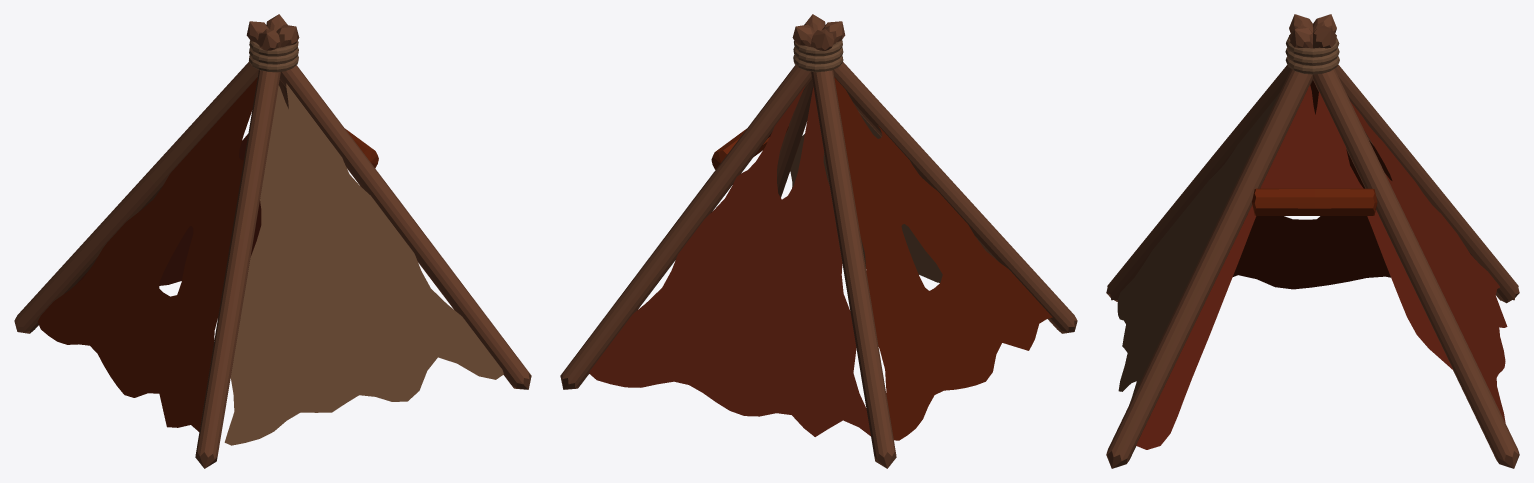
The model's file is tent4.fbx.
3 renders of one model, left to right at view 1: azimuth 30°, elevation 25°; view 2: azimuth 150°, elevation 25°; view 3: azimuth 270°, elevation 25°, orthographic. The views are drawn at different scales.
Parts seen in each view (by area): view 1: Grid, Grid.003, Cylinder.001, Cylinder.004, Cylinder.003, Grid.002, Cylinder.002; view 2: Grid.002, Grid.003, Cylinder.003, Cylinder.002, Cylinder.001, Cylinder.004, Grid; view 3: Grid.001, Cylinder.002, Cylinder.004, Grid, Grid.003, Grid.002, Cylinder.003, Cylinder.001, Cylinder, Torus.001, Torus.002, Torus.003.
Part boxes in pixels (x1,y1,x2,y2): Grid: [224, 83, 503, 445]; Grid.003: [37, 77, 257, 431]; Cylinder.001: [195, 14, 287, 468]; Cylinder.004: [246, 21, 531, 389]; Cylinder.003: [14, 24, 299, 333]; Grid.002: [76, 134, 261, 285]; Cylinder.002: [257, 29, 288, 108]; Grid.002: [589, 85, 870, 436]; Grid.003: [834, 77, 1052, 440]; Cylinder.003: [804, 14, 896, 468]; Cylinder.002: [560, 21, 845, 389]; Cylinder.001: [792, 24, 1077, 333]; Cylinder.004: [777, 29, 834, 197]; Grid: [790, 113, 942, 282]; Grid.001: [1136, 85, 1453, 449]; Cylinder.002: [1289, 14, 1519, 468]; Cylinder.004: [1106, 14, 1336, 468]; Grid: [1117, 93, 1279, 404]; Grid.003: [1233, 80, 1392, 289]; Grid.002: [1350, 101, 1507, 422]; Cylinder.003: [1289, 25, 1519, 303]; Cylinder.001: [1106, 25, 1336, 302]; Cylinder: [1252, 188, 1377, 215]; Torus.001: [1285, 56, 1339, 74]; Torus.002: [1285, 47, 1339, 65]; Torus.003: [1286, 36, 1339, 57].
Size of the model in its own units: 276 by 266 by 276.
